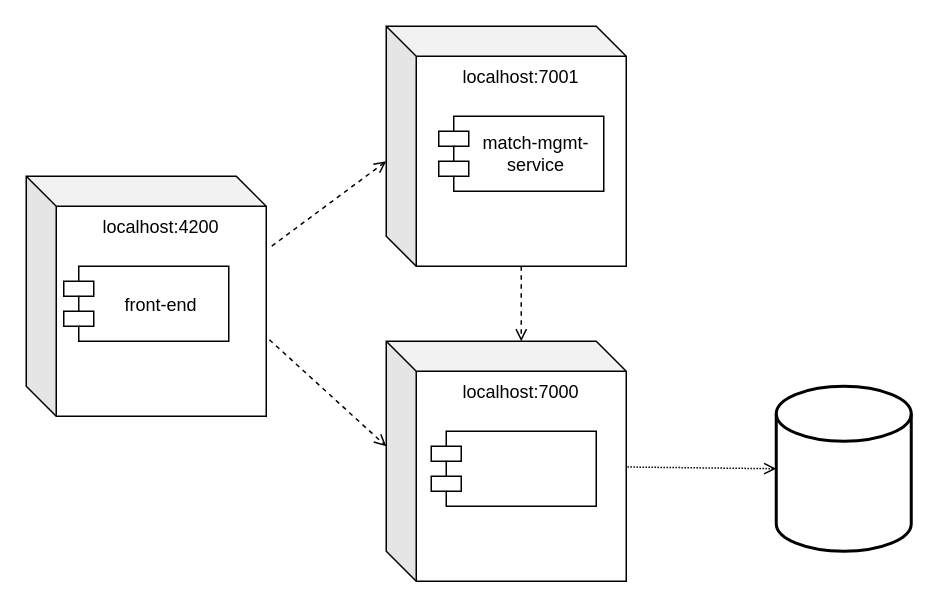
The diagram is 939 pixels wide and 608 high, and some of its shapes have lost their labels. Here are the shapes that lost their labels. From the top down, the centre of each, then its label:
At (513,468): "board-service".
At (843,468): "localhost:7687".
